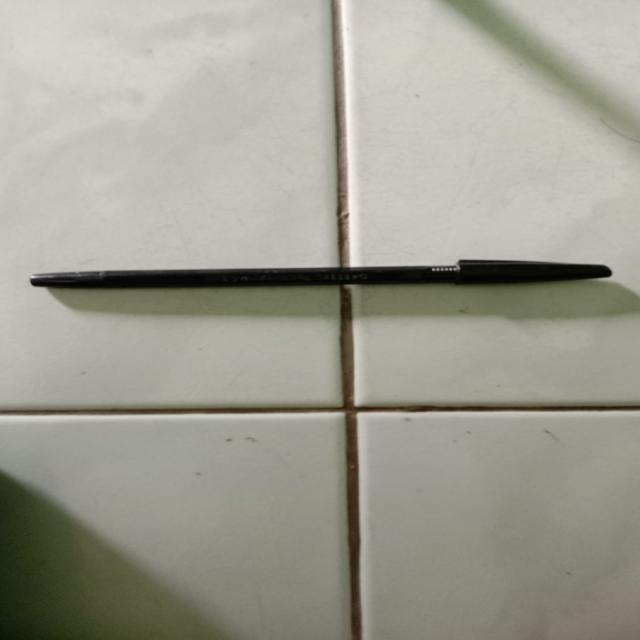pena: (21, 198, 622, 352)
